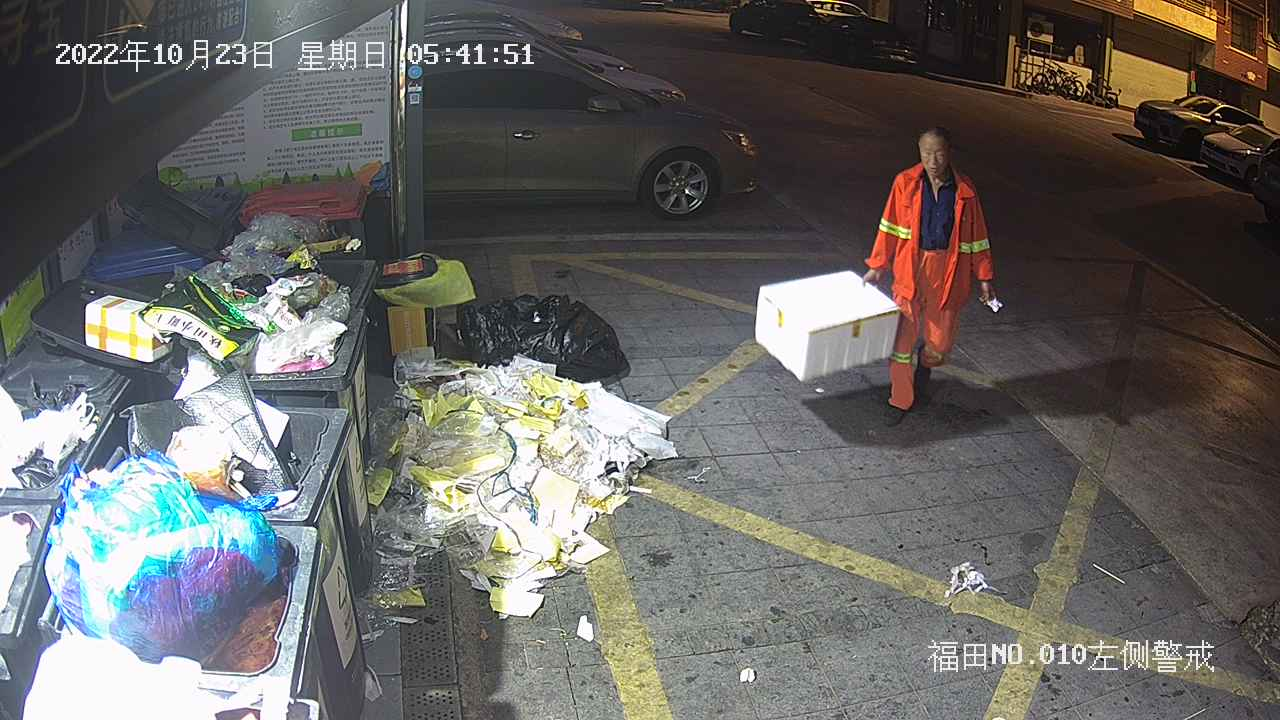paomozhipin: (750, 266, 901, 385)
suliaozhipin: (363, 343, 679, 641), (451, 291, 626, 387)
worker: (861, 125, 997, 427)
